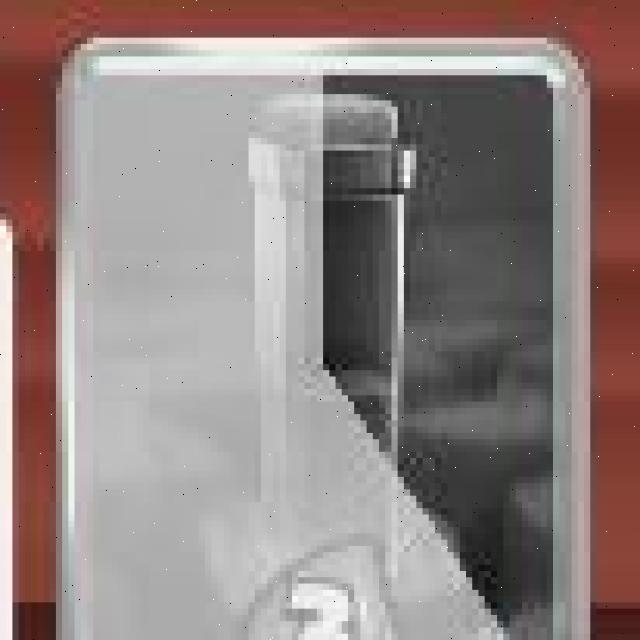Earthquake: (51, 30, 594, 640)
